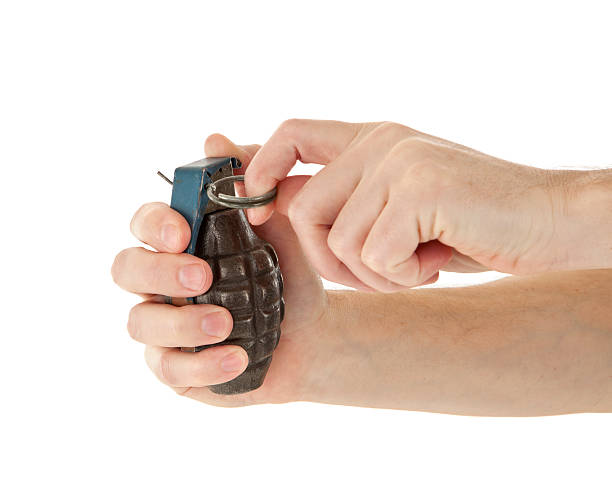e1: (151, 153, 285, 389)
